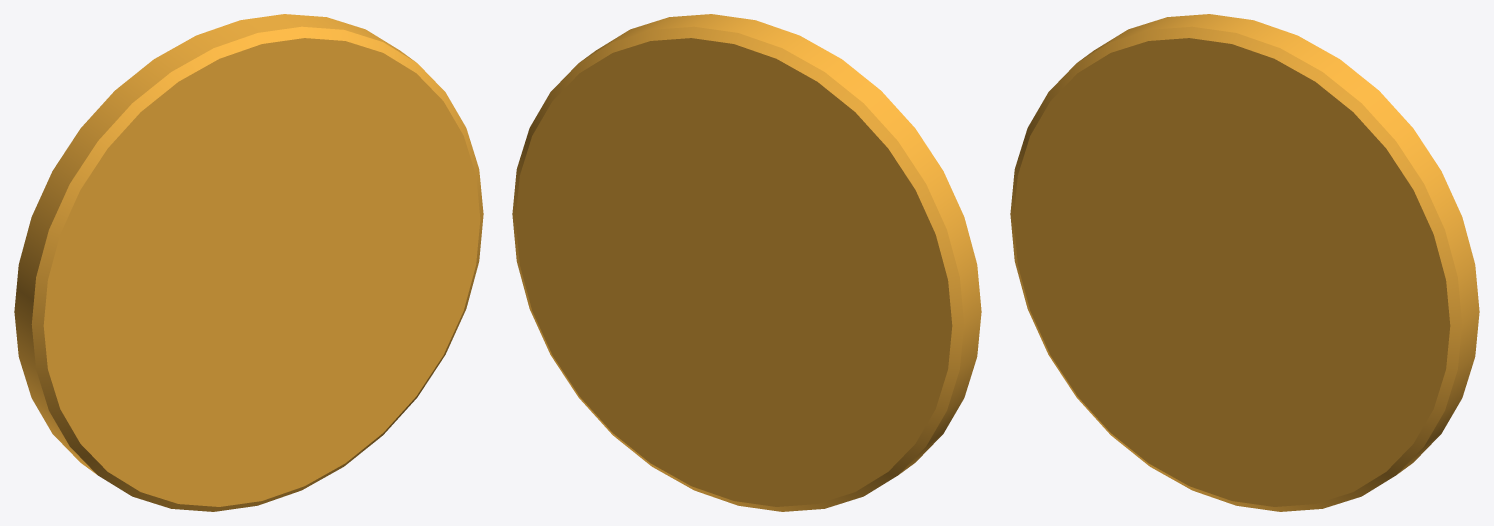
File: Gong.glb
The picture shows the model from 3 angles, left to right: view 1: azimuth 30°, elevation 25°; view 2: azimuth 150°, elevation 25°; view 3: azimuth 330°, elevation 25°; orthographic projection.
Visible parts, largest first — view 1: Origin Gong; view 2: Origin Gong; view 3: Origin Gong.
Part boxes in pixels (x1,y1,x2,y2): Origin Gong: (14, 14, 483, 511); Origin Gong: (512, 14, 981, 511); Origin Gong: (1010, 14, 1479, 511).
Size of the model in its own units: 0.3 by 0.3 by 0.03.
